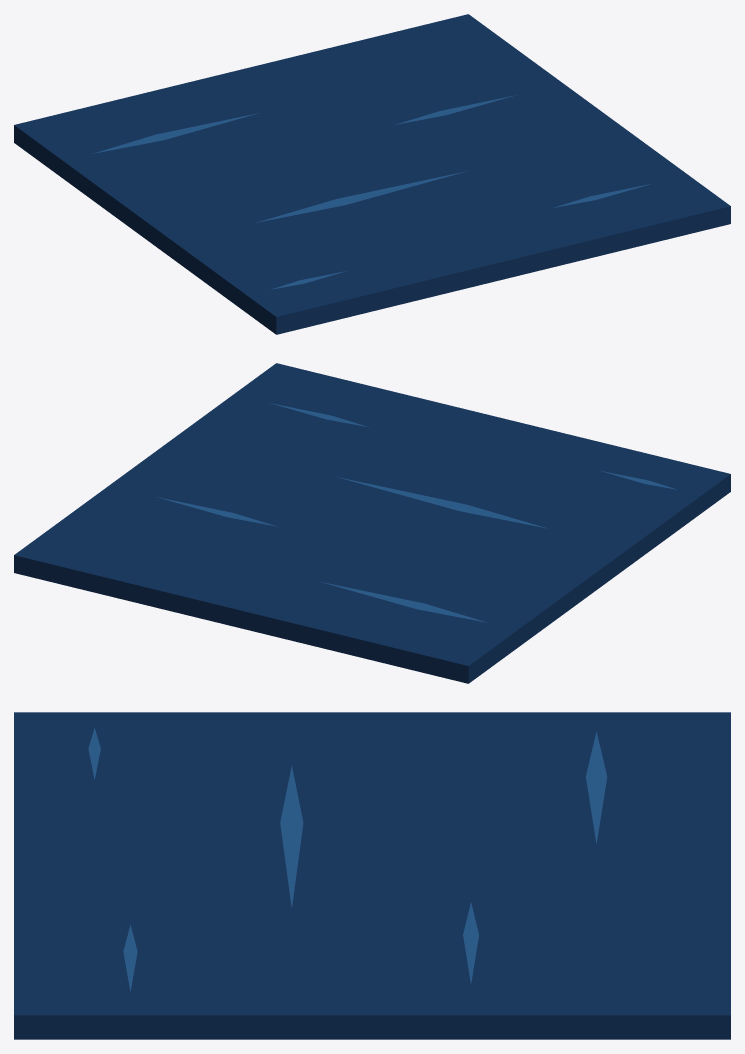
The model's file is water_tile.glb.
3 views of the same model, one above another, from view 1: azimuth 30°, elevation 25°; view 2: azimuth 150°, elevation 25°; view 3: azimuth 270°, elevation 25° (orthographic). The views are drawn at different scales.
Visible parts, largest first — view 1: water; view 2: water; view 3: water.
Boxes of the visible parts, x1,y1,x2,y2 form: water: (14, 14, 730, 334); water: (14, 363, 730, 683); water: (14, 712, 730, 1039).
Size of the model in its own units: 4 by 0.15 by 4.
